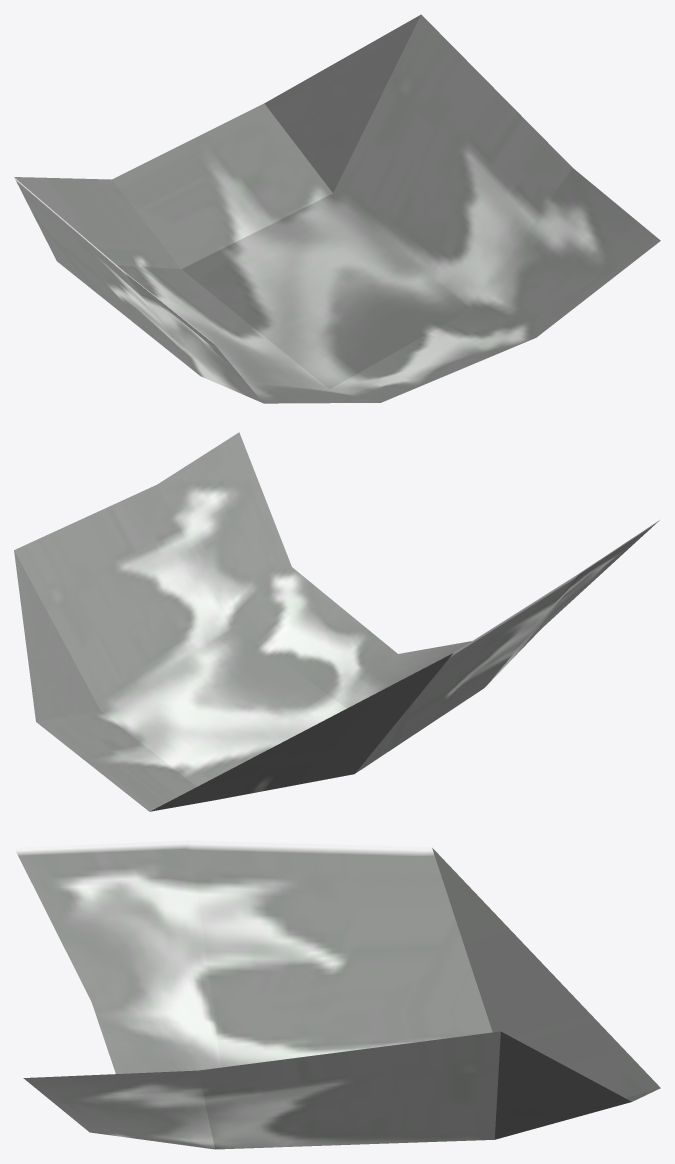
Rendered from 4011_yan.FBX.
3 renders of one model, top to bottom at view 1: azimuth 30°, elevation 25°; view 2: azimuth 150°, elevation 25°; view 3: azimuth 270°, elevation 25°, orthographic. The views are drawn at different scales.
Parts seen in each view (by area): view 1: 4011yan; view 2: 4011yan; view 3: 4011yan.
Boxes of the visible parts, x1,y1,x2,y2 form: 4011yan: (14,14,660,403); 4011yan: (14,432,659,811); 4011yan: (14,840,660,1149).
Bounding box in the file's own units: 33.15 × 15.21 × 41.27.
